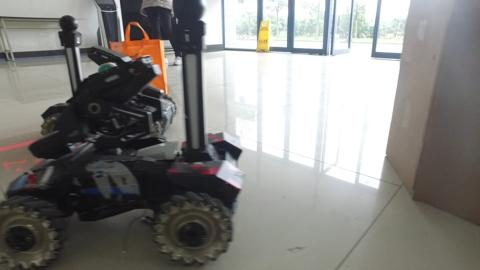chariot: (1, 1, 238, 270), (38, 17, 175, 130)
